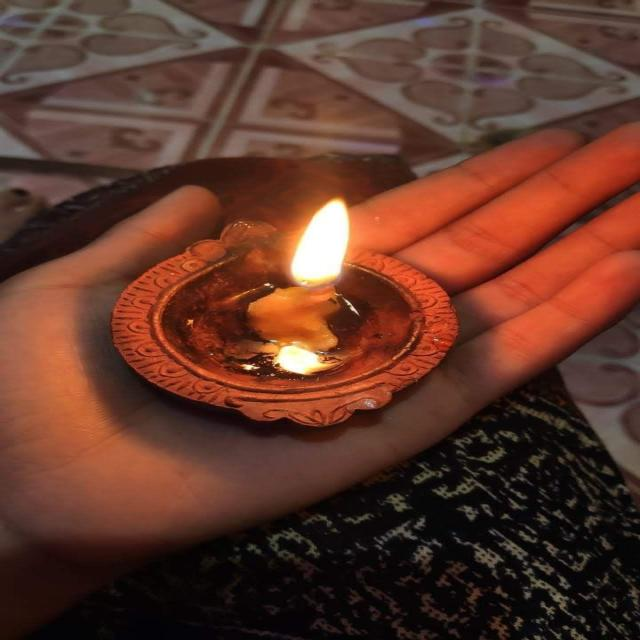fire: (291, 196, 349, 286)
